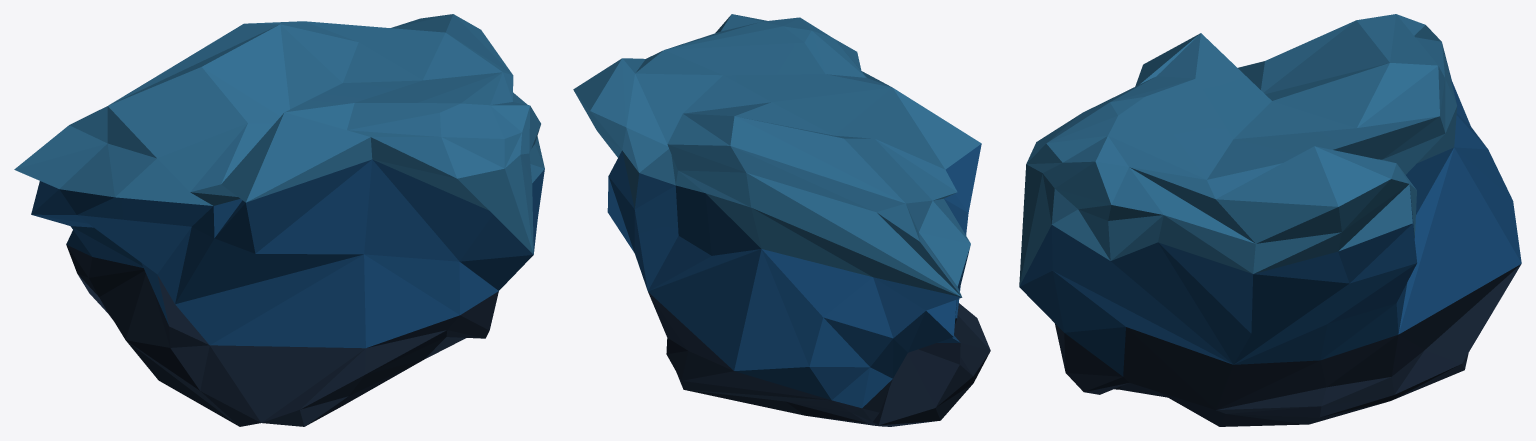
File: rock015.FBX
3 views of the same model, side by side, from view 1: azimuth 30°, elevation 25°; view 2: azimuth 150°, elevation 25°; view 3: azimuth 270°, elevation 25° (orthographic). The views are drawn at different scales.
Visible parts, largest first — view 1: rock_015; view 2: rock_015; view 3: rock_015.
Boxes of the visible parts, x1,y1,x2,y2 form: rock_015: (14,14,544,426); rock_015: (573,14,990,426); rock_015: (1019,14,1521,426).
Size of the model in its own units: 12.01 by 8.08 by 10.35.
